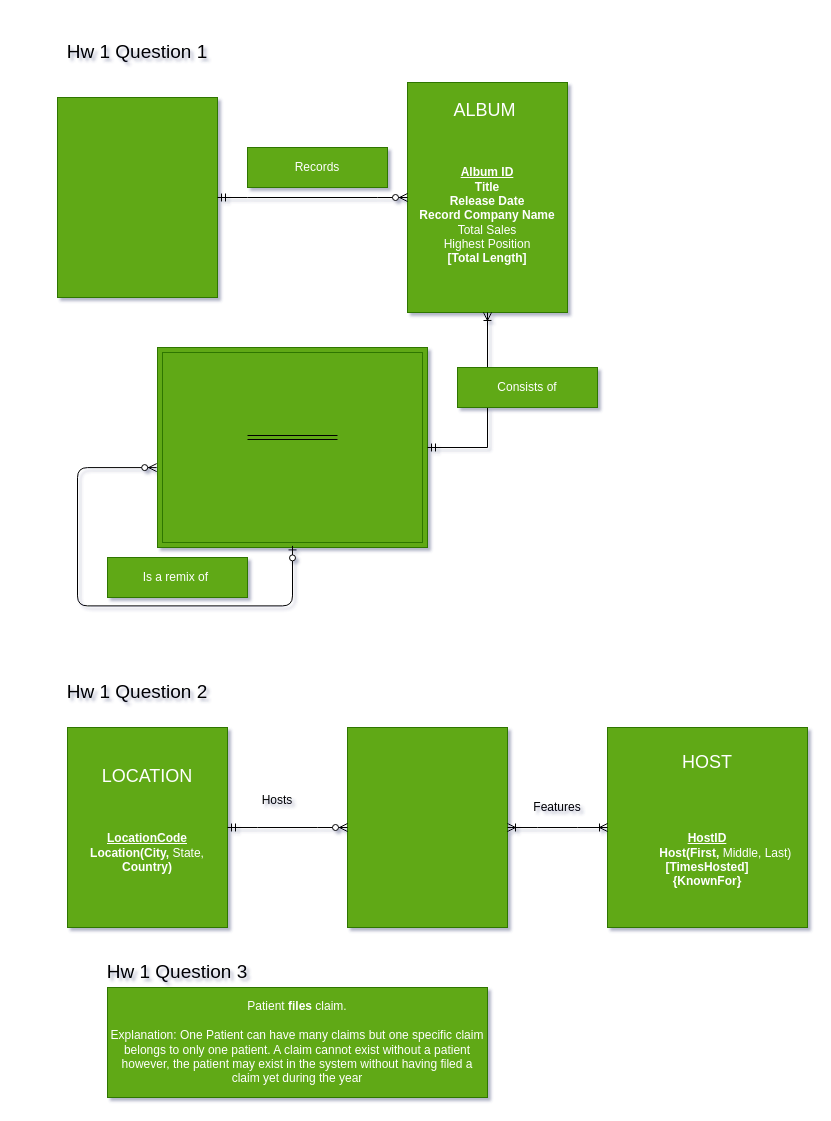
Image size: 831x1121. Some labels were removed from this diagram. Here are the shapes that lost their labels. From the top down, the centre of each, then its label:
the point at 137,197: BAND Unique Band Code Name Year Country {Genre}
the point at 292,447: TRACK Track Number Title Duration(Minutes, Seconds)
the point at 427,827: CEREMONY CeremonyID Date Network Viewers
